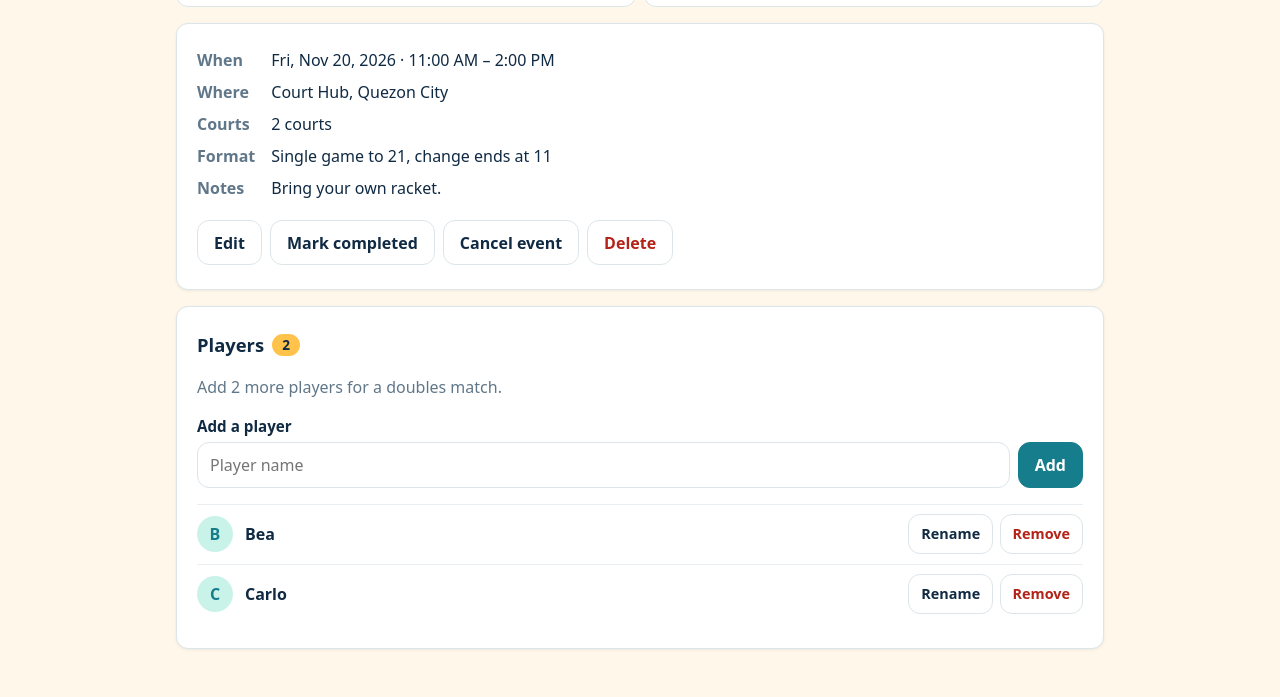
Players on the event page › removes a player after asking
(page scrolled)
Click the button with aria-label "Remove Carlo": (1041, 594) [1000,574,1083,614]
(page scrolled)
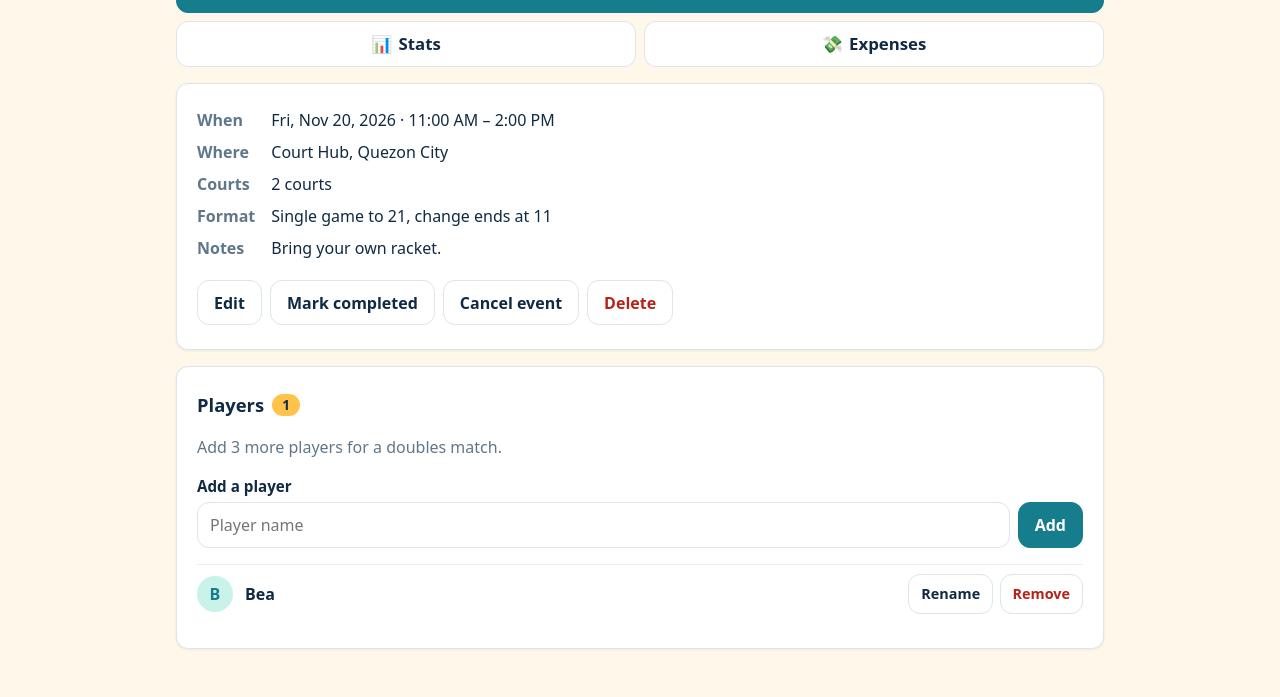
Expected: the text "Add 3 more players for a doubles match." is shown, [197,436,502,458]
